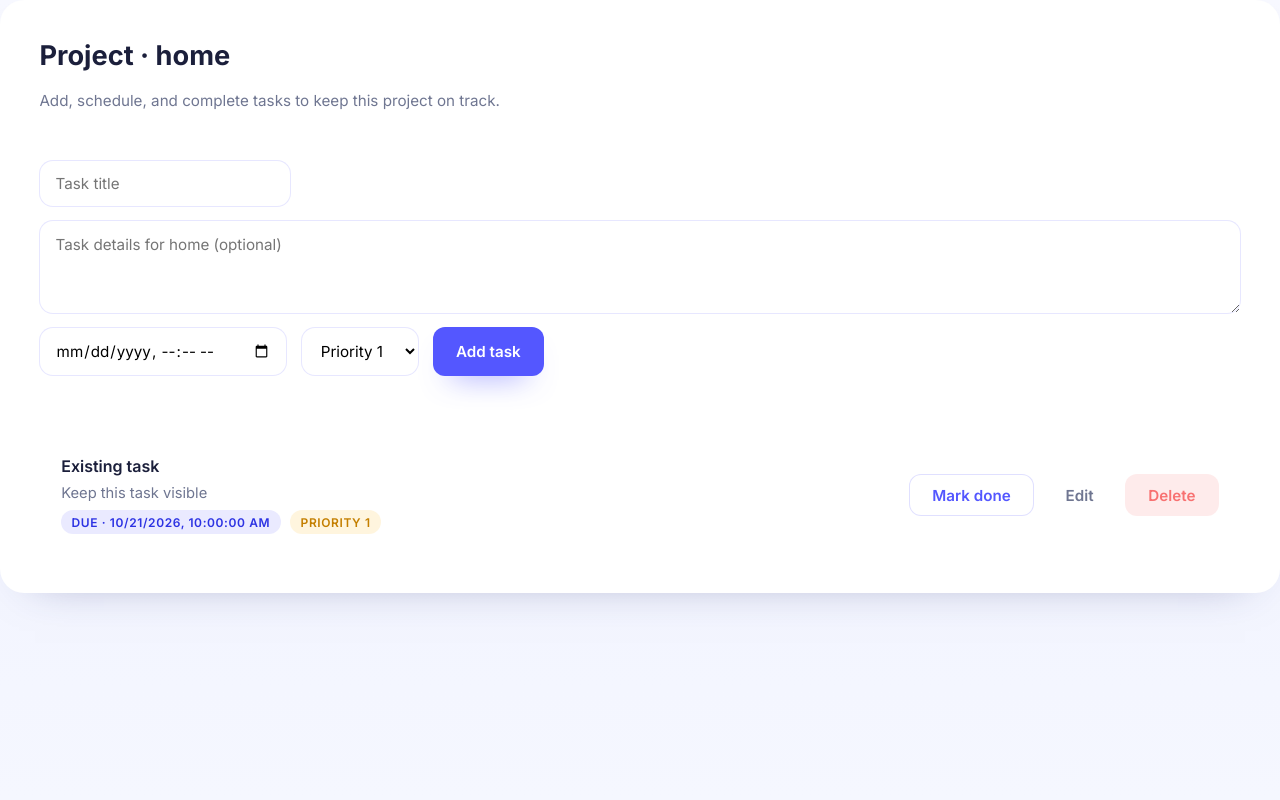
it: a failed refresh after a successful save keeps the list and retries without saving twice
The width and height of the screenshot is (1280, 800).
Type "Draft task" into the field with placeholder "Task title". click: (165, 183)
box: left=39, top=160, right=291, bottom=207
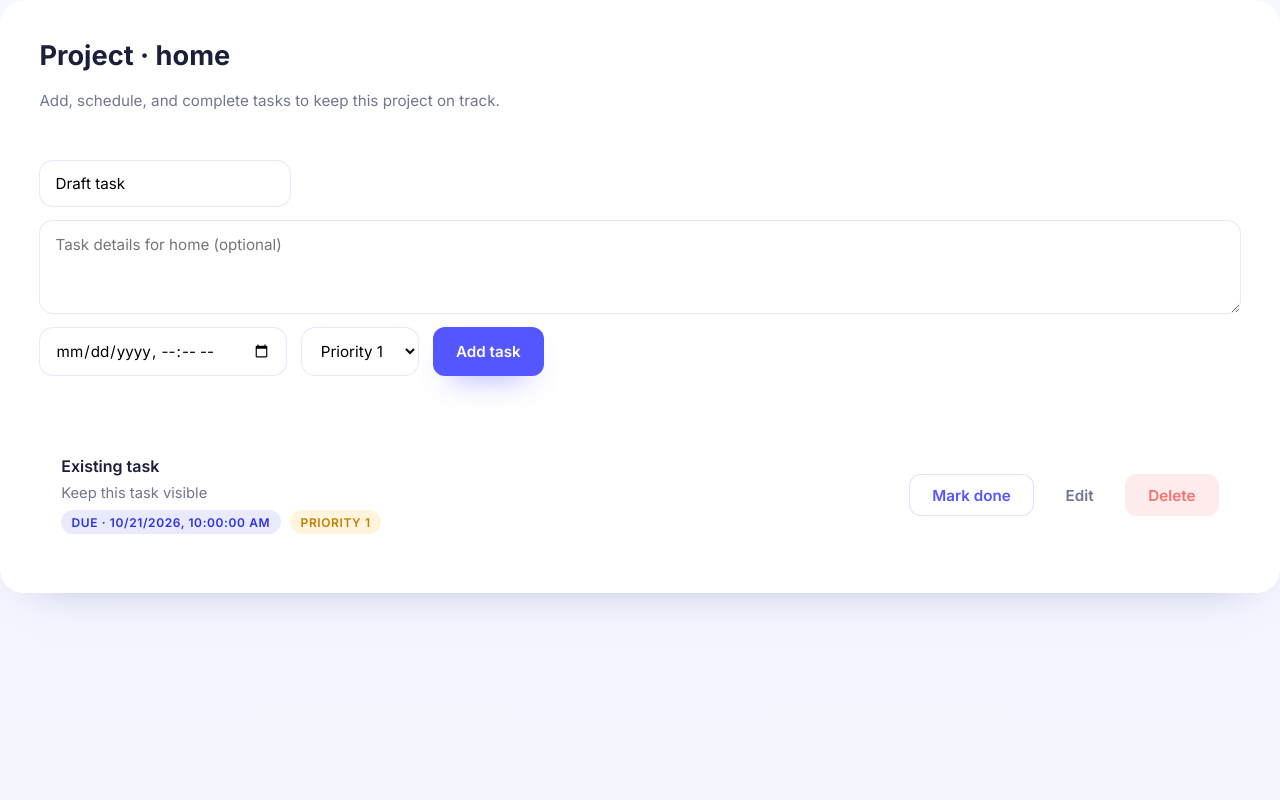
Type "Unsaved details" into the text box with placeholder "Task details for home (optional)". click: (640, 267)
box: left=39, top=220, right=1241, bottom=314
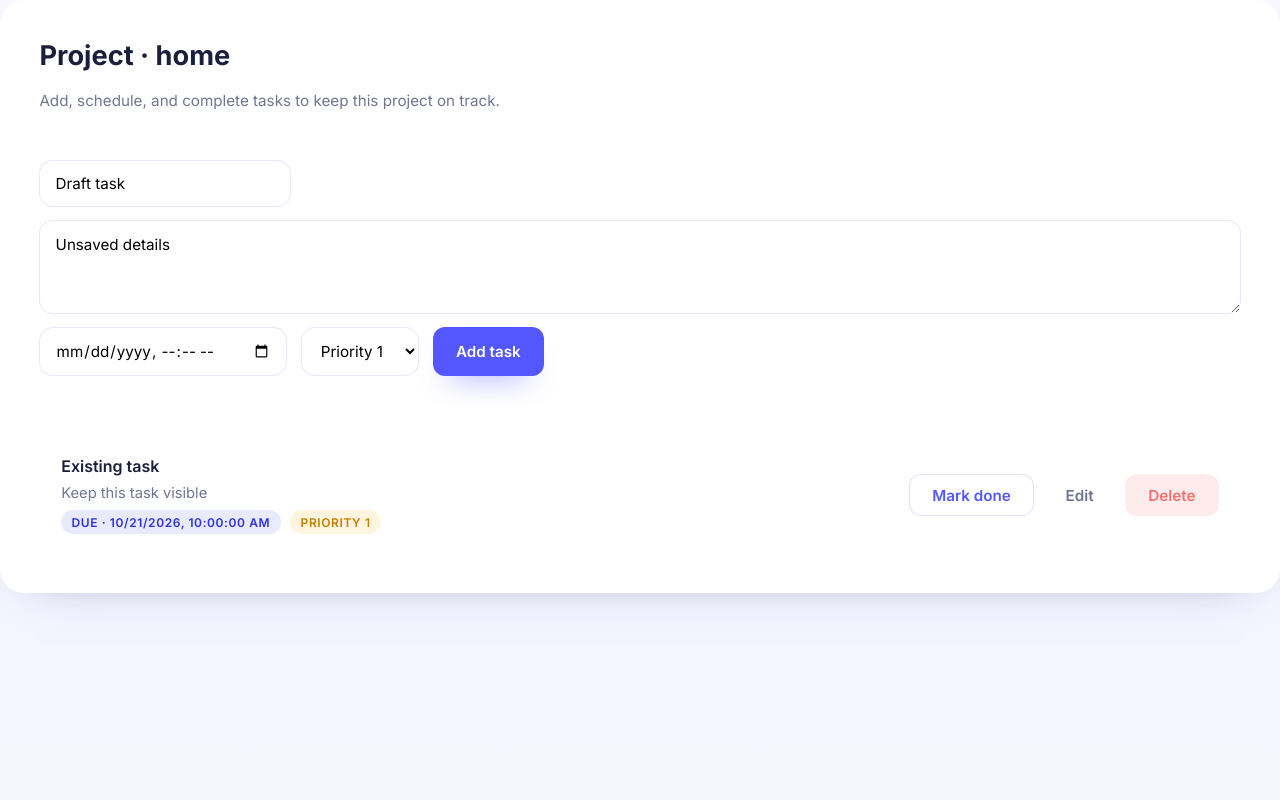
Type "2026-10-22T12:30" into the 2nd field. click: (163, 352)
box: left=39, top=327, right=287, bottom=376
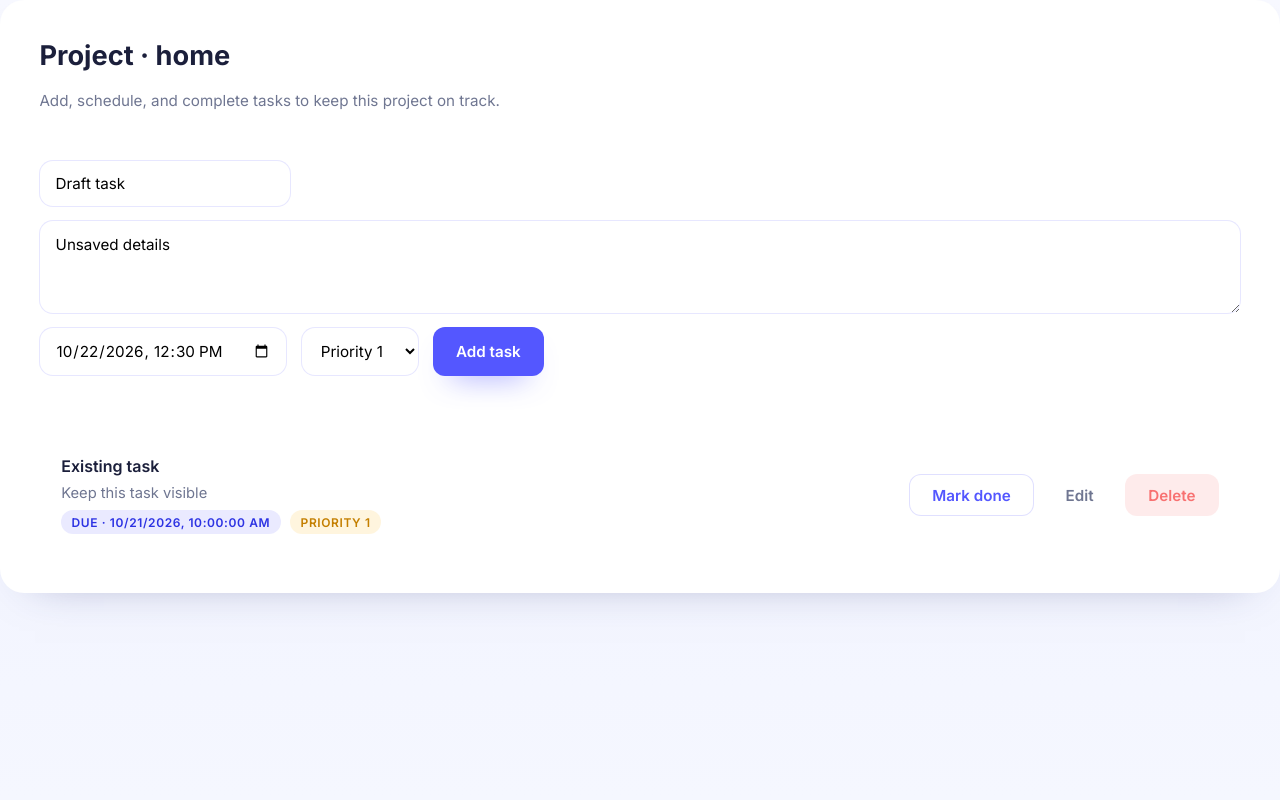
Submit the form with class "task-inputs", box left=39, top=160, right=1241, bottom=376
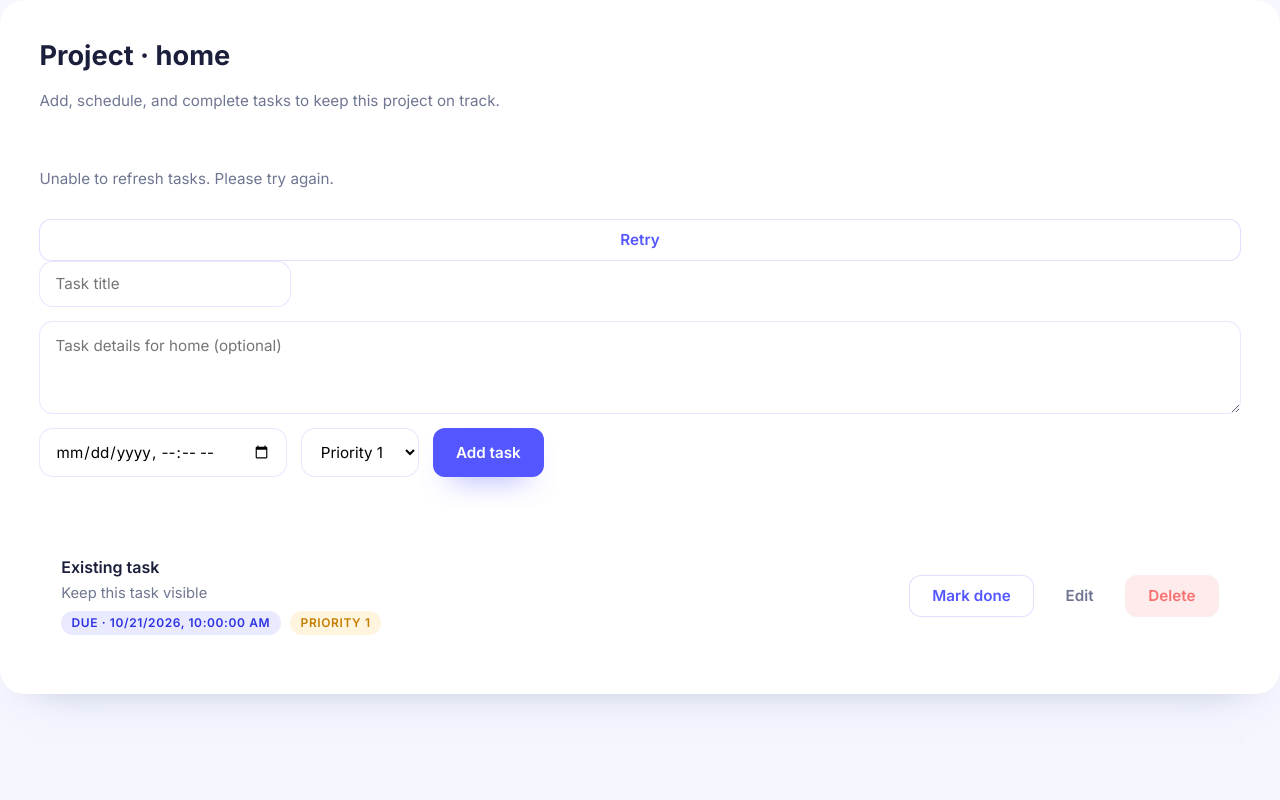
Check: the field with placeholder "Task title" is empty, box left=39, top=260, right=291, bottom=307
Check: the message "Unable to refresh tasks. Please try again. Retry" is shown, box left=39, top=160, right=1241, bottom=261
Check: the button "Retry" is shown
Click the button "Retry". click: click(640, 240)
box: left=39, top=219, right=1241, bottom=261
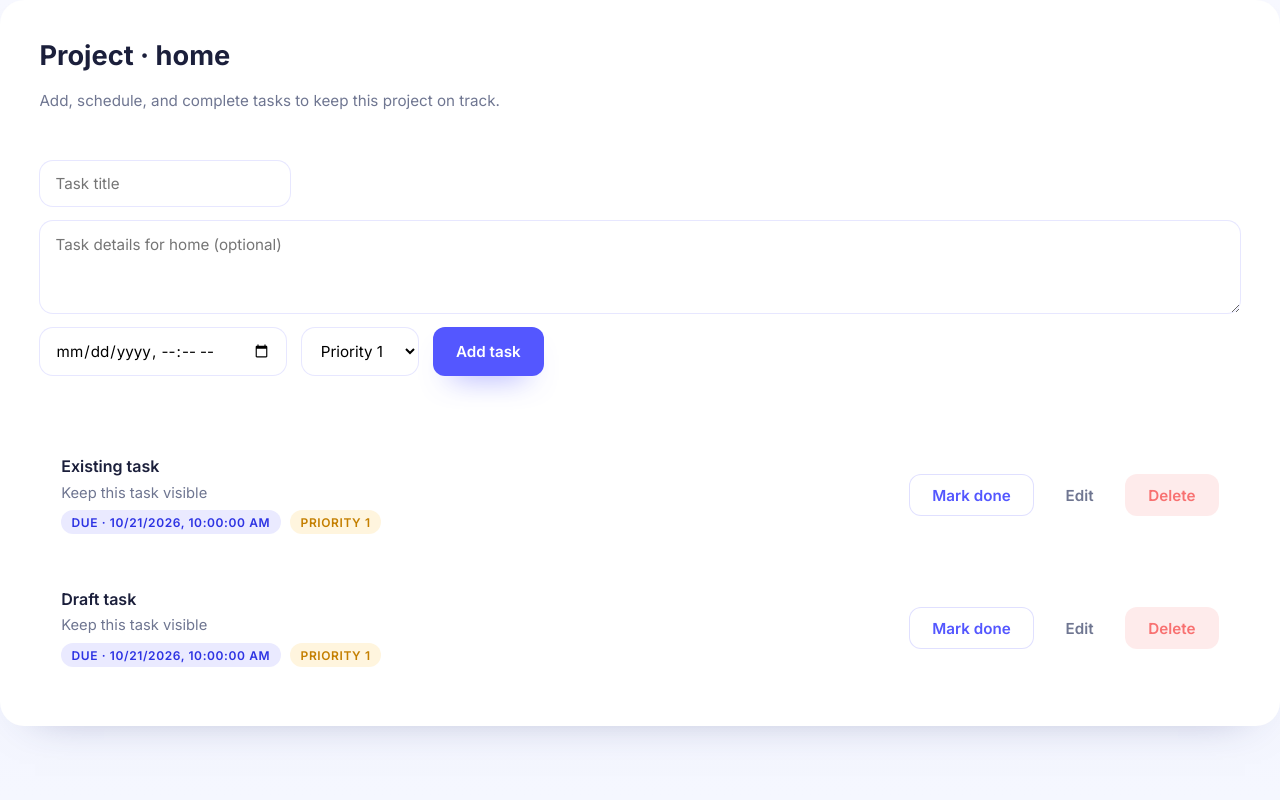
Check: the message "Unable to refresh tasks. Please try again. Retry" is gone
Check: the number of elements with class "task-card" is 2, box left=39, top=437, right=1241, bottom=554; left=39, top=570, right=1241, bottom=686
